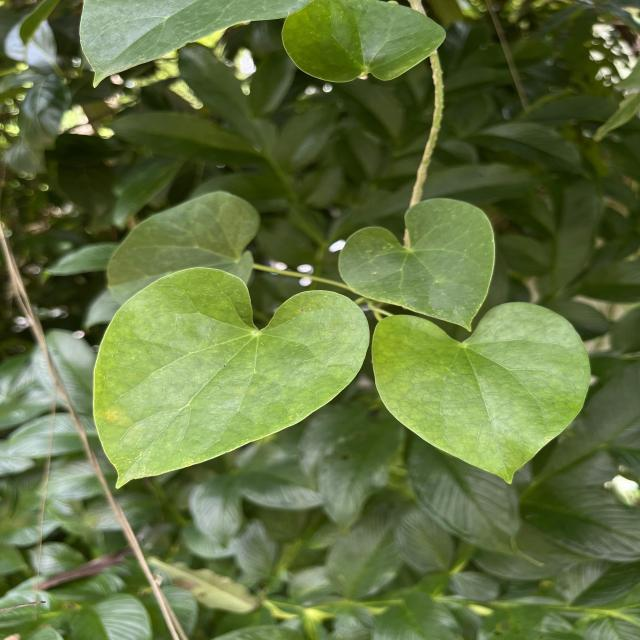Tinospora cordifolia: (89, 264, 372, 492), (368, 299, 594, 486), (334, 195, 498, 336)
